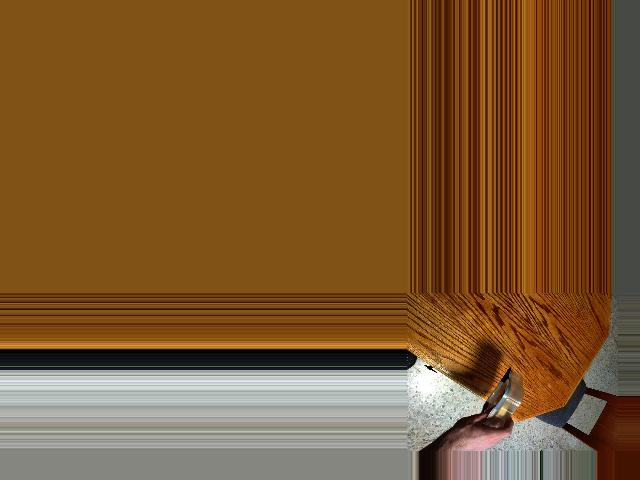cheese: (458, 381, 540, 442)
